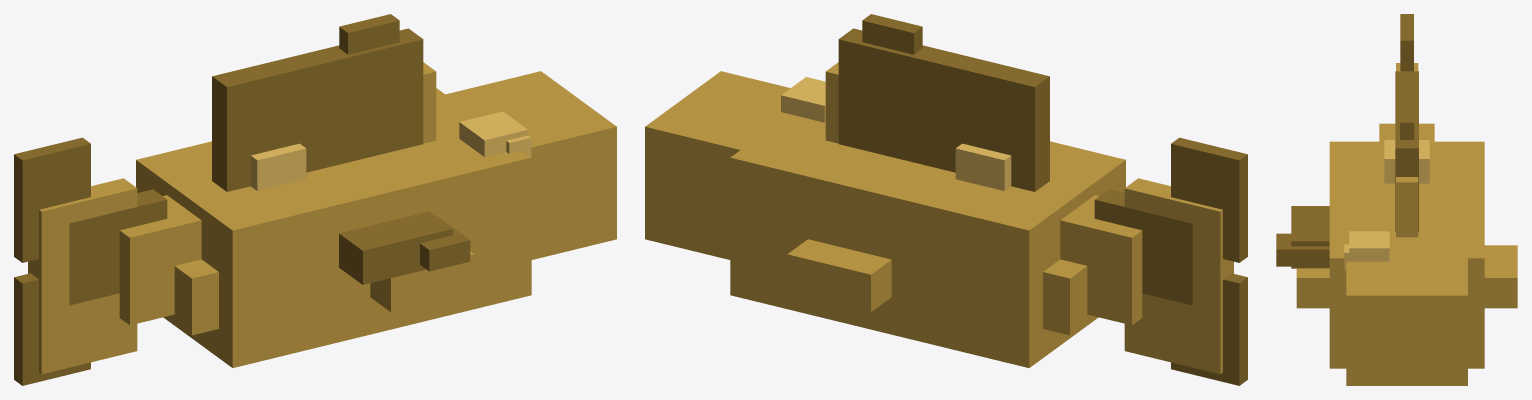
Rendered from fish_gilt_marina.glb.
The picture shows the model from 3 angles, left to right: view 1: azimuth 30°, elevation 25°; view 2: azimuth 150°, elevation 25°; view 3: azimuth 270°, elevation 25°; orthographic projection. The views are drawn at different scales.
Parts seen in each view (by area): view 1: FishArt_body, FishArt_dorsal, FishArt_tail, FishArt_pectoral, FishArt_eye, FishArt_specialty; view 2: FishArt_body, FishArt_dorsal, FishArt_tail, FishArt_specialty, FishArt_eye; view 3: FishArt_body, FishArt_pectoral, FishArt_dorsal, FishArt_eye, FishArt_specialty, FishArt_tail.
Boxes of the visible parts, box(x1,y1,x2,y2) form: FishArt_body: box(28, 62, 616, 374); FishArt_dorsal: box(212, 14, 423, 191); FishArt_tail: box(14, 137, 167, 385); FishArt_pectoral: box(339, 211, 470, 284); FishArt_eye: box(459, 111, 531, 156); FishArt_specialty: box(250, 143, 306, 190); FishArt_body: box(645, 62, 1233, 374); FishArt_dorsal: box(838, 14, 1049, 191); FishArt_tail: box(1094, 137, 1247, 385); FishArt_specialty: box(955, 143, 1011, 190); FishArt_eye: box(781, 77, 825, 122); FishArt_body: box(1296, 63, 1517, 385); FishArt_pectoral: box(1276, 206, 1329, 268); FishArt_dorsal: box(1395, 71, 1418, 231); FishArt_eye: box(1344, 231, 1389, 270); FishArt_specialty: box(1384, 140, 1429, 183); FishArt_tail: box(1400, 14, 1413, 71).
Size of the model in its own units: 0.3091 by 0.1442 by 0.1439.
